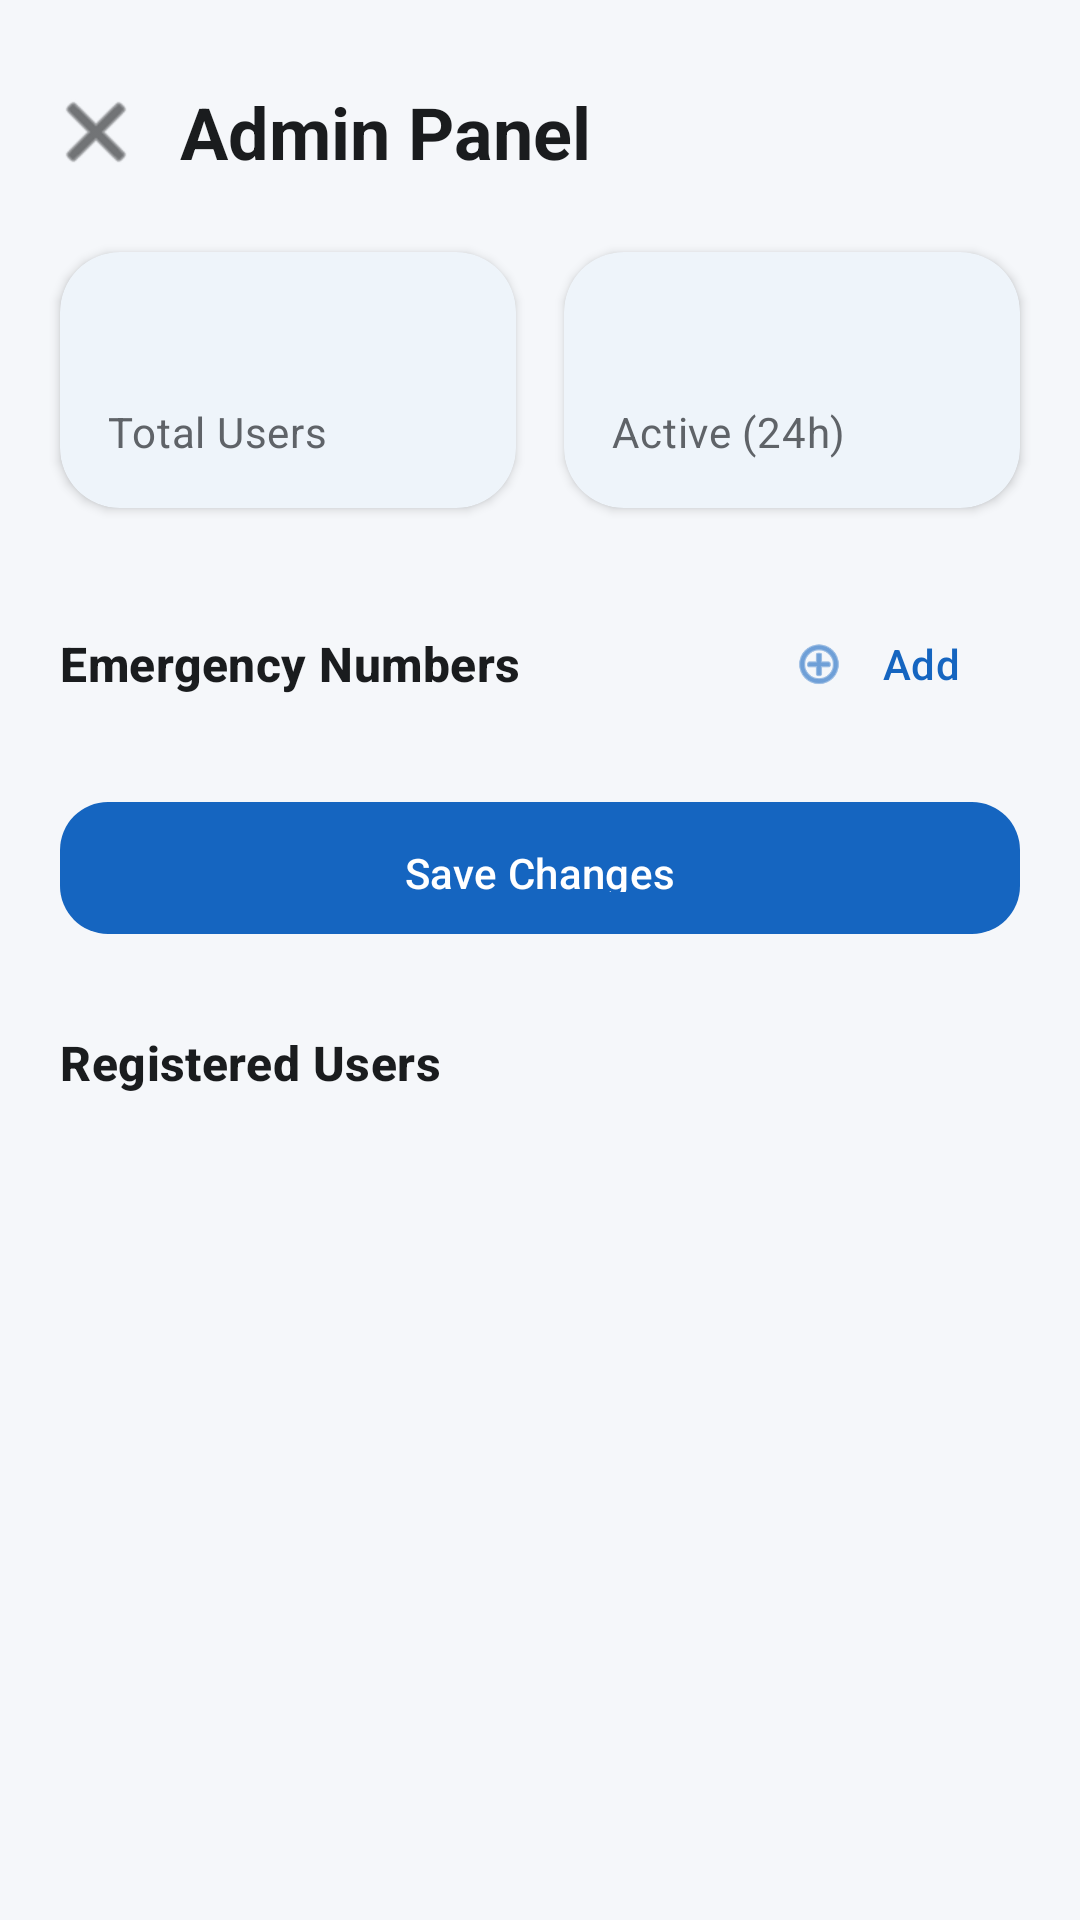

Screen size 1080w x 1920h. Icon name, then its box in pixels as (x1, y1, x2, y2):
Back: (66, 102, 126, 162)
